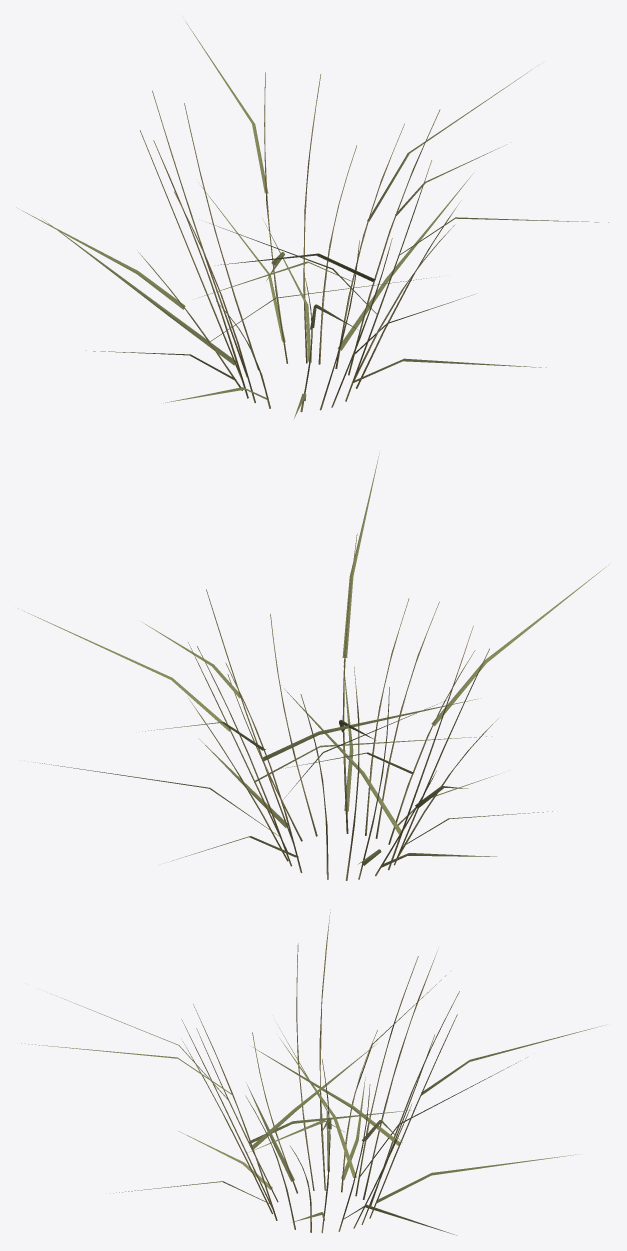
The model's file is Herbes_2_Niveau1.fbx.
The picture shows the model from 3 angles, top to bottom: view 1: azimuth 30°, elevation 25°; view 2: azimuth 150°, elevation 25°; view 3: azimuth 270°, elevation 25°; orthographic projection. The views are drawn at different scales.
Visible parts, largest first — view 1: Herbes_2_Niveau1; view 2: Herbes_2_Niveau1; view 3: Herbes_2_Niveau1.
Boxes of the visible parts, x1,y1,x2,y2 form: Herbes_2_Niveau1: [16, 21, 608, 418]; Herbes_2_Niveau1: [18, 453, 608, 880]; Herbes_2_Niveau1: [21, 909, 605, 1235].
Size of the model in its own units: 66.06 by 34.9 by 77.92.
